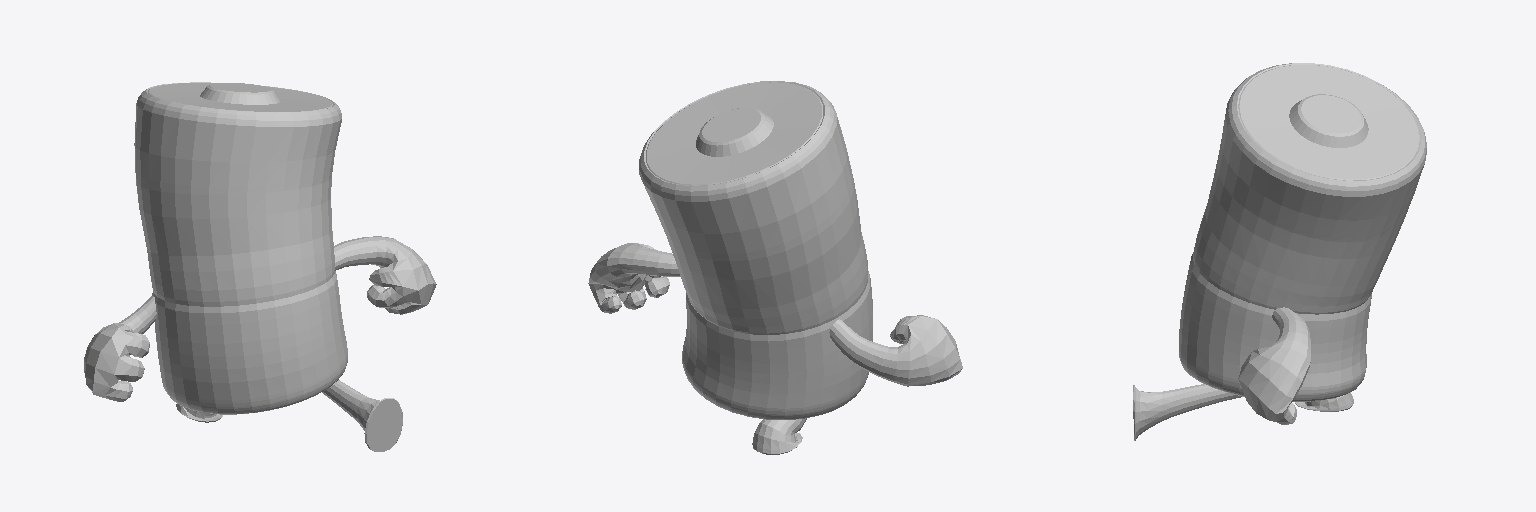
Rendered from boi-0.obj.
The picture shows the model from 3 angles: view 1: azimuth 30°, elevation 25°; view 2: azimuth 150°, elevation 25°; view 3: azimuth 270°, elevation 25°; orthographic projection.
Parts seen in each view (by area): view 1: meshes_0; view 2: meshes_0; view 3: meshes_0.
Boxes of the visible parts, <box> form: meshes_0: <box>84,82,436,451</box>; meshes_0: <box>588,81,962,454</box>; meshes_0: <box>1133,63,1426,440</box>.
Size of the model in its own units: 131 by 115 by 93.7.